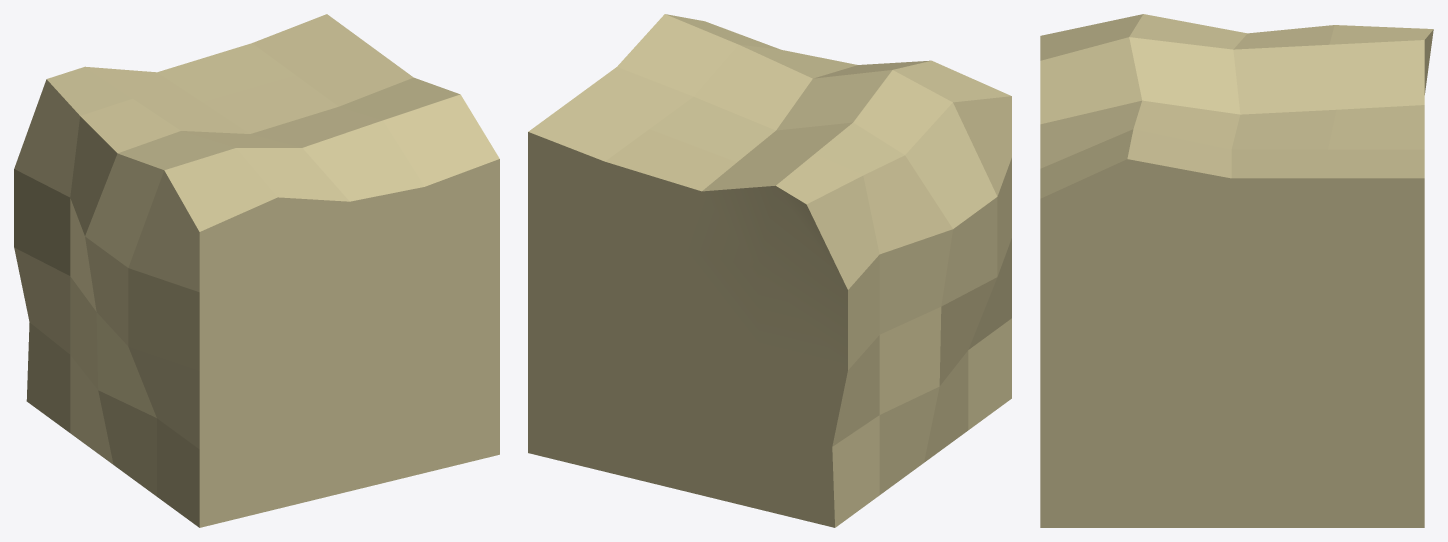
The model's file is sancliff.fbx.
The picture shows the model from 3 angles, left to right: view 1: azimuth 30°, elevation 25°; view 2: azimuth 150°, elevation 25°; view 3: azimuth 270°, elevation 25°; orthographic projection. The views are drawn at different scales.
Parts seen in each view (by area): view 1: Sand 02; view 2: Sand 02; view 3: Sand 02.
Boxes of the visible parts, x1=… form: Sand 02: x1=14, y1=14, x2=499, y2=527; Sand 02: x1=528, y1=14, x2=1011, y2=527; Sand 02: x1=1040, y1=14, x2=1433, y2=527.
Size of the model in its own units: 219 by 211 by 204.
